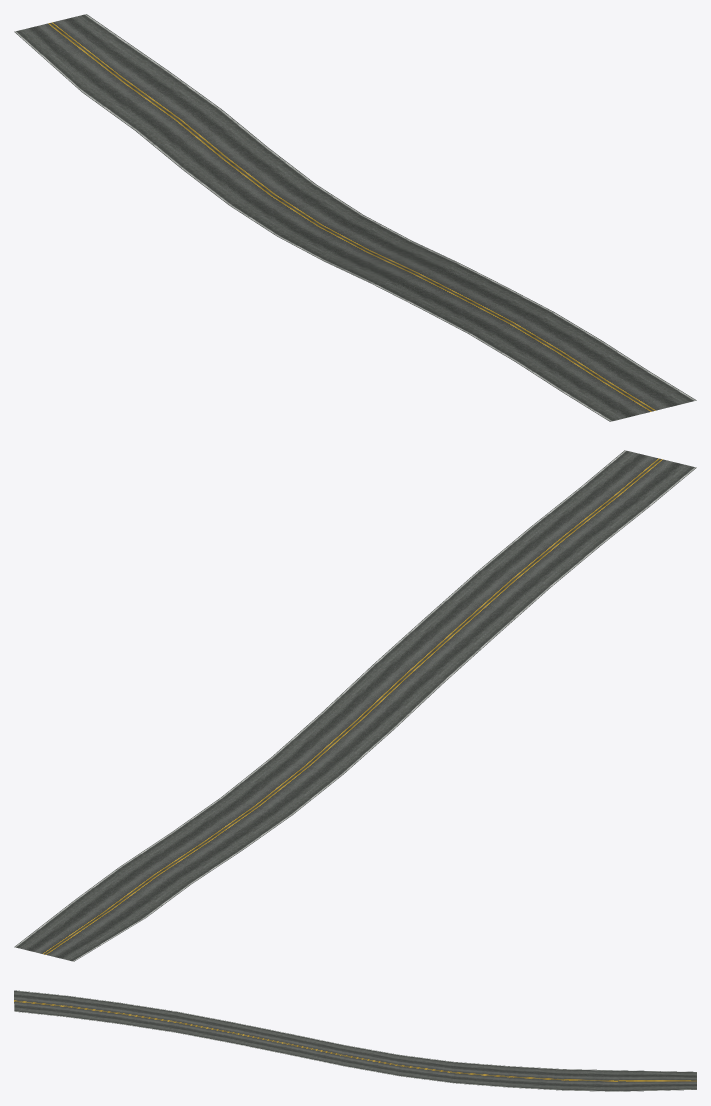
The model's file is cuntwroad74.obj.
The picture shows the model from 3 angles, top to bottom: view 1: azimuth 30°, elevation 25°; view 2: azimuth 150°, elevation 25°; view 3: azimuth 270°, elevation 25°; orthographic projection. The views are drawn at different scales.
Visible parts, largest first — view 1: cuntwroad74; view 2: cuntwroad74; view 3: cuntwroad74.
Boxes of the visible parts, <box> form: cuntwroad74: <box>14,14,696,421</box>; cuntwroad74: <box>14,450,696,961</box>; cuntwroad74: <box>14,990,696,1091</box>.
Size of the model in its own units: 21.54 by 16.41 by 161.
1 material, 1 textured.
